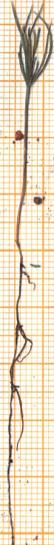flower: (9, 0, 54, 89)
root: (4, 265, 37, 545)
stem: (11, 90, 34, 265)
